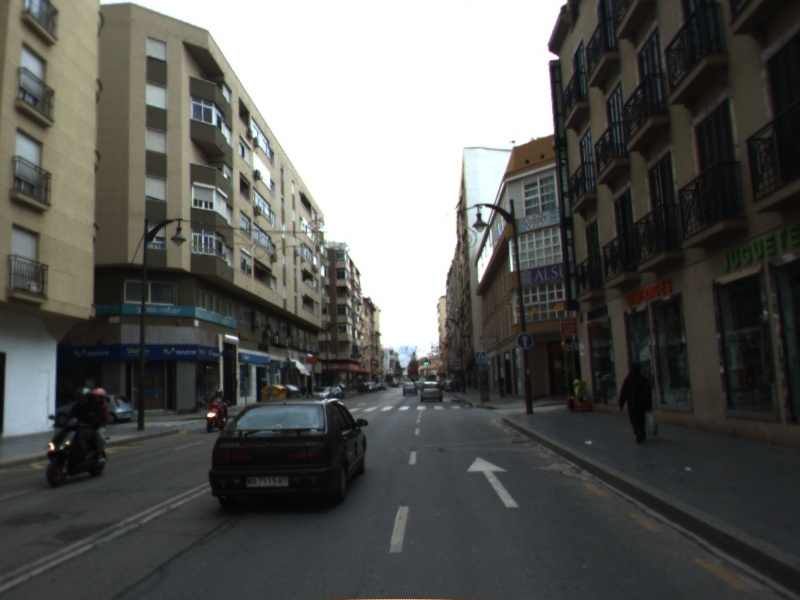STRAIGHT: (464, 454, 522, 510)
